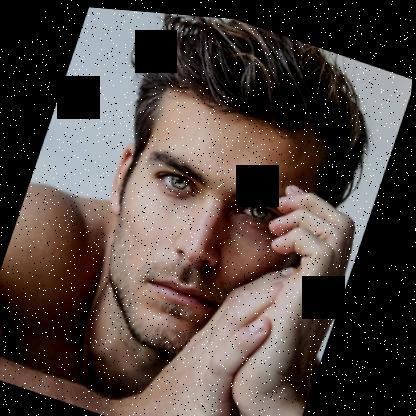Male: (68, 67, 344, 385)
